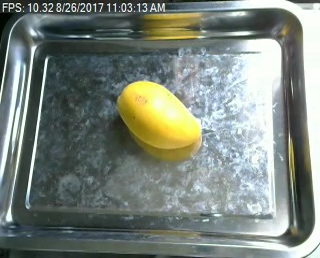Mango: (105, 77, 208, 155)
